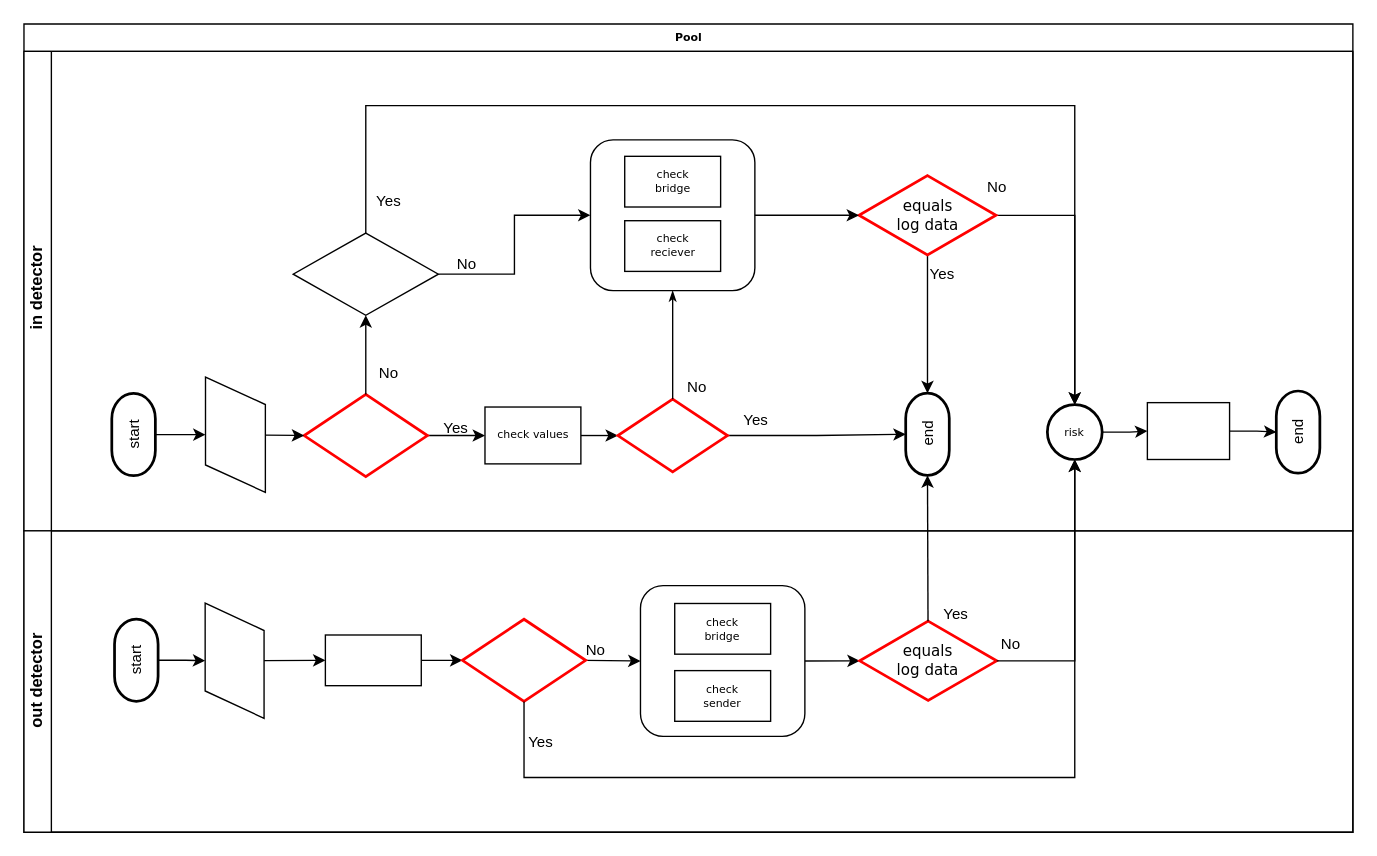
Some shapes in this 1377 by 856 pixel diagram are drawn without their labels. The centre of each missing label's shape, as x and y in pixels:
alert: point (1188, 430)
check token: point (372, 660)
fake token: point (523, 659)
in txns: point (234, 434)
origin chain in range: point (365, 273)
out txns: point (234, 660)
txn matched: point (365, 434)
values equal: point (672, 435)
